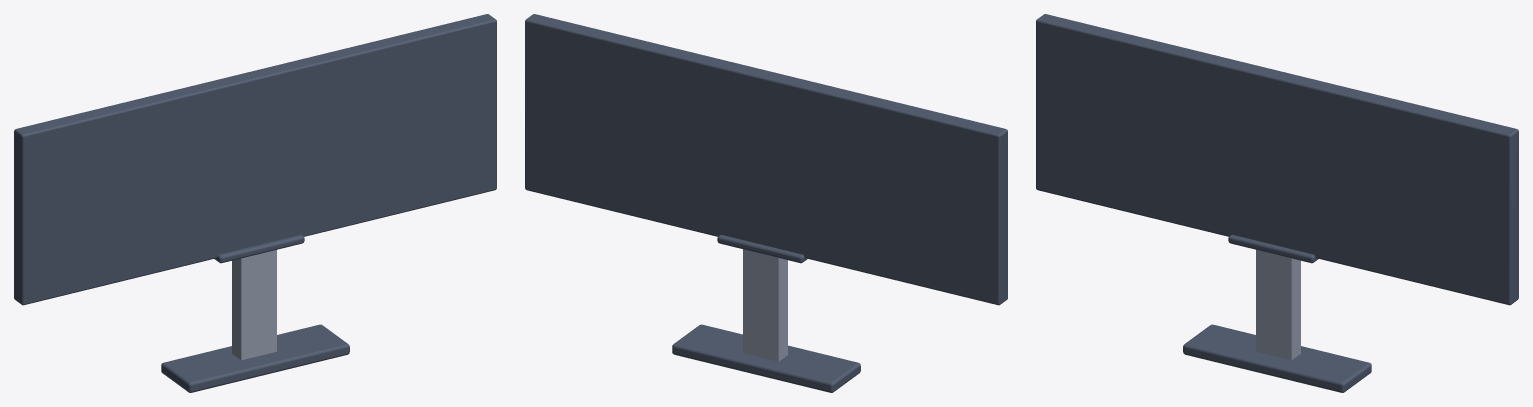
Rendered from tv_tabletop-lite.glb.
The picture shows the model from 3 angles, left to right: view 1: azimuth 30°, elevation 25°; view 2: azimuth 150°, elevation 25°; view 3: azimuth 330°, elevation 25°; orthographic projection.
Visible parts, largest first — view 1: tv_tabletop; view 2: tv_tabletop; view 3: tv_tabletop.
Part boxes in pixels (x1,y1,x2,y2): tv_tabletop: [14, 14, 496, 392]; tv_tabletop: [525, 14, 1007, 392]; tv_tabletop: [1036, 14, 1518, 392].
Size of the model in its own units: 1.5 by 0.8738 by 0.16.
